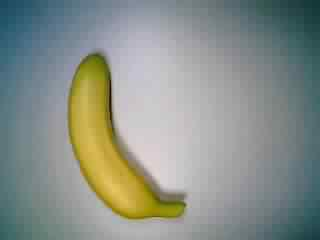banana: (65, 51, 189, 223)
